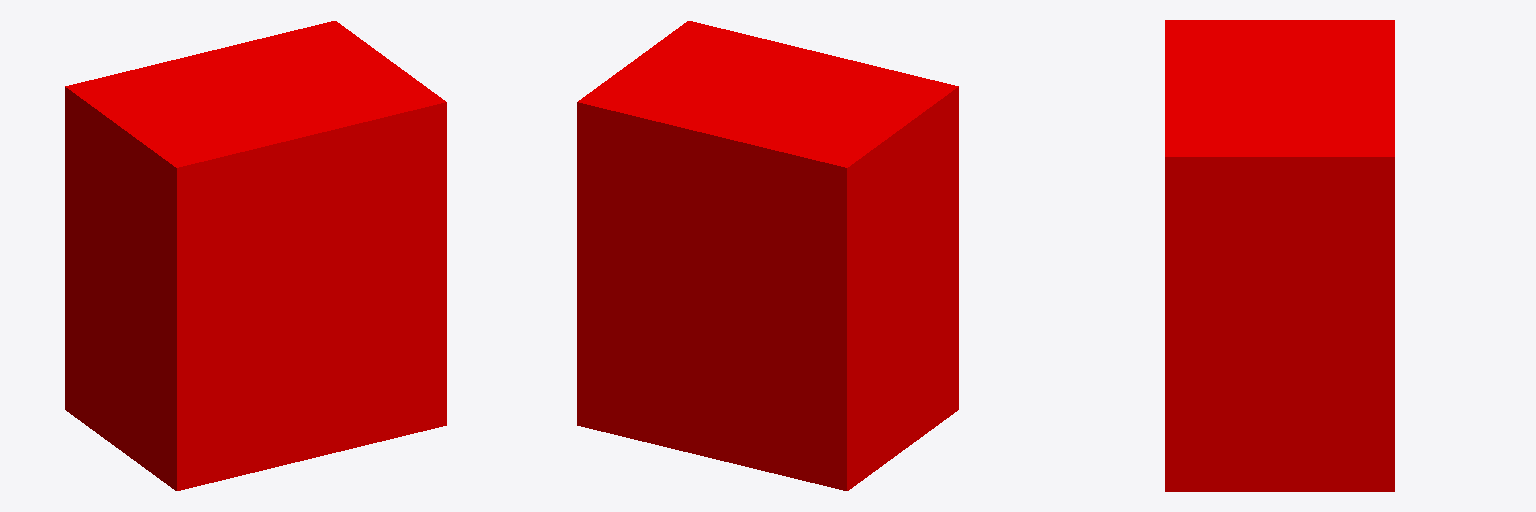
URDF robot description (cube):
<?xml version="1.0" ?>
<robot name="cube">
  <link name="baseLink">
    <contact>
      <friction_anchor/>
      <lateral_friction value="0.01"/>
      <rolling_friction value="0.01"/>
    </contact>
    <inertial>
      <origin rpy="0 0 0" xyz="0 0 0"/>
      <mass value="0.1"/>
      <inertia ixx="1" ixy="0" ixz="0" iyy="1" iyz="0" izz="1"/>
    </inertial>
    <visual>
      <origin rpy="0 0 0" xyz="0 0 0"/>
      <!--<geometry>
	    <mesh filename="cube.obj" scale="0.05 0.05 0.05"/>
      </geometry>-->
      <geometry>
	 	<box size="0.07 0.05 0.08"/>
      </geometry>
      <material name="red">
        <color rgba="1 0 0 1"/>
      </material>
    </visual>
    <collision>
      <origin rpy="0 0 0" xyz="0 0 0"/>
      <!--<geometry>
        <mesh filename="cube.obj" scale="0.0475 0.0475 0.0475"/>
      </geometry>-->
      <geometry>
	 	<box size="0.07 0.05 0.08"/>
      </geometry>
    </collision>
  </link>
</robot>

--- Render facts (derived) ---
3 views of the same robot in one strip: view 1: azimuth 30°, elevation 25°; view 2: azimuth 150°, elevation 25°; view 3: azimuth 270°, elevation 25° (orthographic).
Model cube with 1 links and 0 joints (none), rooted at baseLink, posed all joints at 0.
Links seen in each view (by area): view 1: baseLink; view 2: baseLink; view 3: baseLink.
Boxes of the visible links, x1,y1,x2,y2 form: baseLink: [65, 21, 446, 490]; baseLink: [577, 21, 958, 490]; baseLink: [1165, 20, 1394, 491].
Bounding box of the posed robot: 0.07 × 0.05 × 0.08 m (x, y, z).
Geometry: primitives only (box / cylinder / sphere), no mesh files.